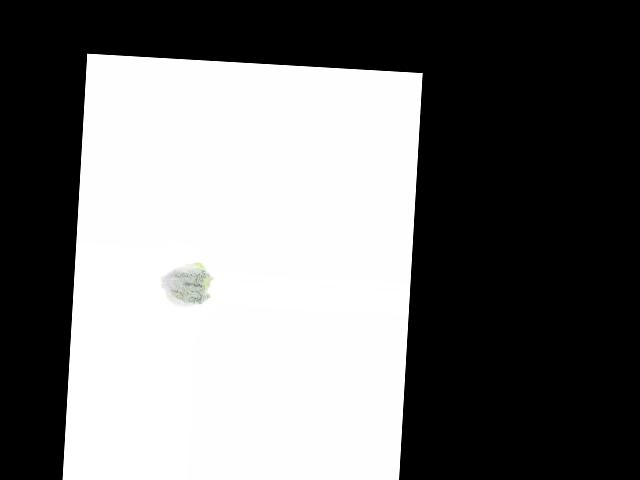lettuce: (159, 257, 213, 309)
